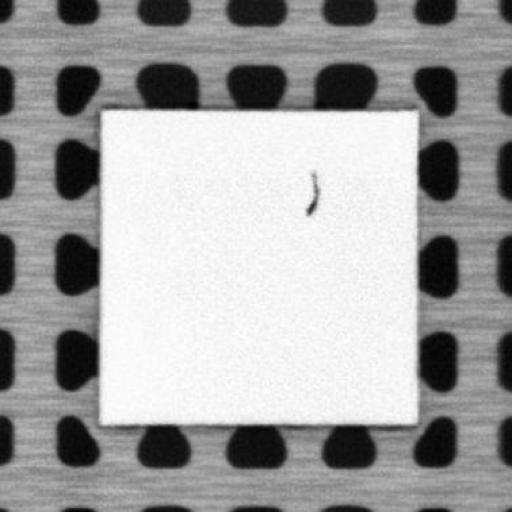DIE_INK: (302, 170, 320, 219)
